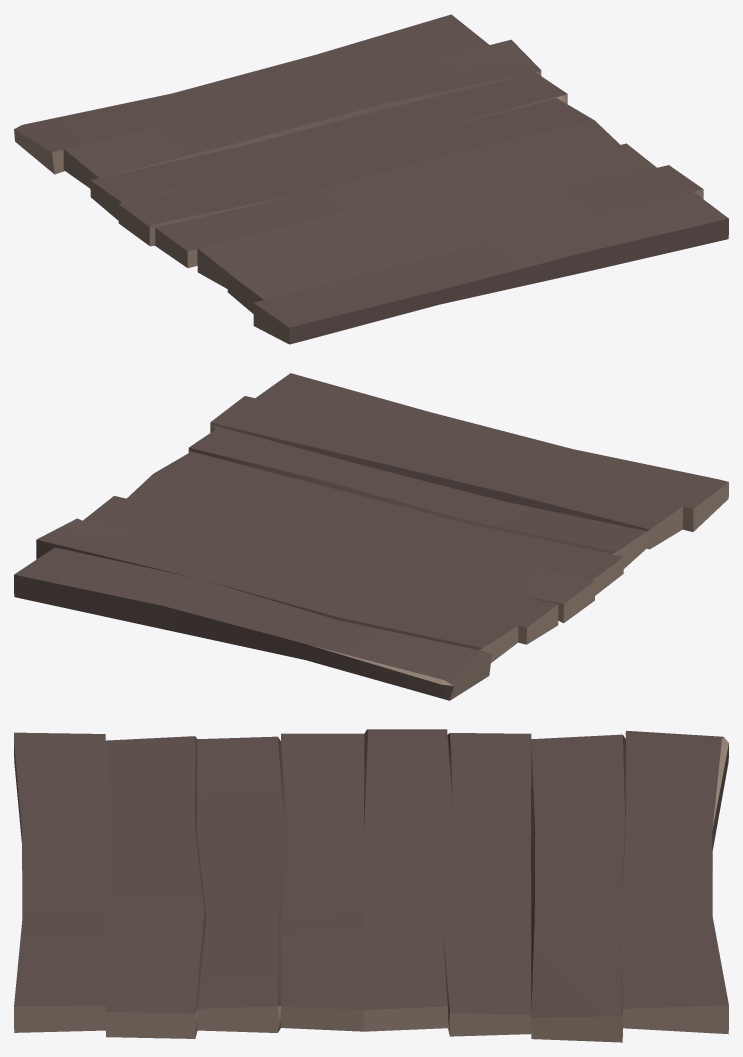
File: wooden_platform.glb
3 renders of one model, top to bottom at view 1: azimuth 30°, elevation 25°; view 2: azimuth 150°, elevation 25°; view 3: azimuth 270°, elevation 25°, orthographic. The views are drawn at different scales.
Visible parts, largest first — view 1: hut_floor.001; view 2: hut_floor.001; view 3: hut_floor.001.
Part boxes in pixels (x1,y1,x2,y2): hut_floor.001: (14,14,728,344); hut_floor.001: (14,373,728,700); hut_floor.001: (14,729,728,1042).
Size of the model in its own units: 3.97 by 0.2579 by 4.14.
1 material, 1 textured.
